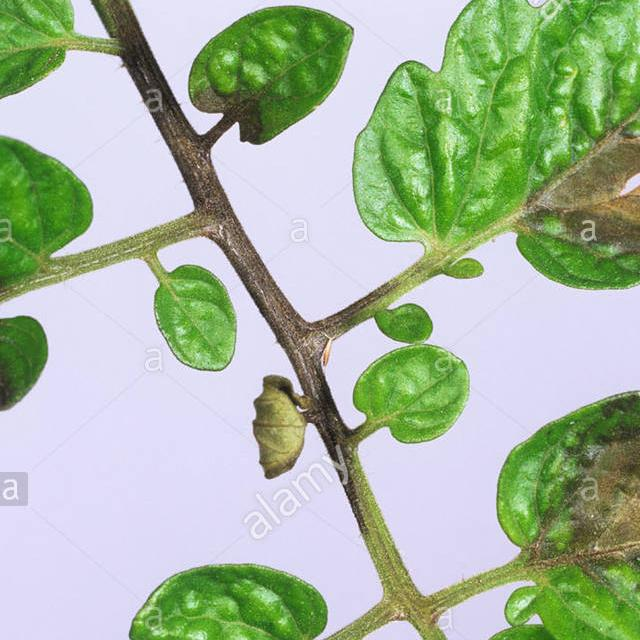Tomato leaf late blight: (345, 0, 640, 299), (483, 387, 640, 640), (0, 545, 356, 640)
